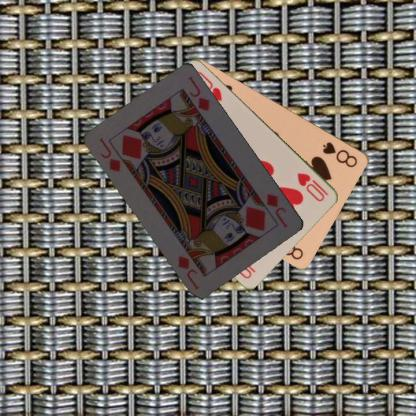10h: (295, 170, 330, 203)
8s: (320, 139, 359, 168)
Jd: (97, 135, 123, 174), (264, 191, 290, 229)
